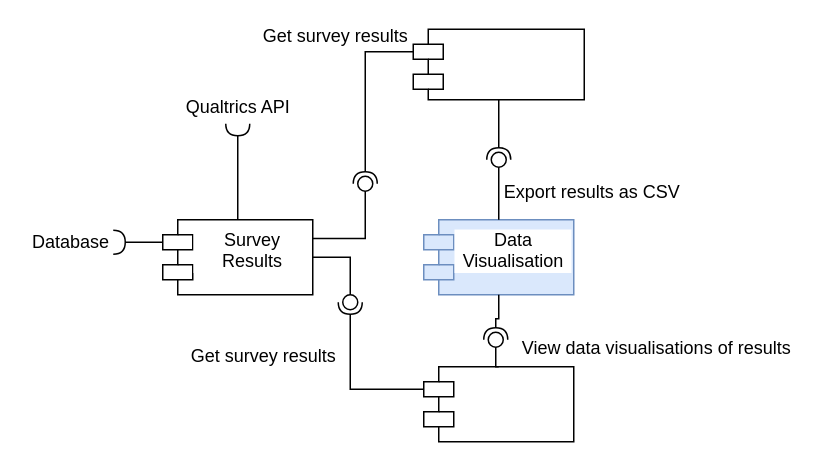
Some shapes in this 816 by 468 pixel diagram are drawn without their labels. Here are the shapes that lost their labels. From the top down, the centre of each, then its label:
(x=498, y=64): Export Results
(x=498, y=403): View Data Visualisations
